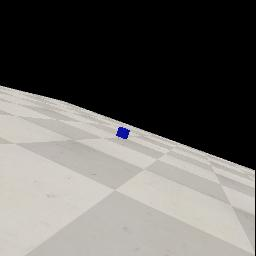box: (116, 127, 130, 139)
